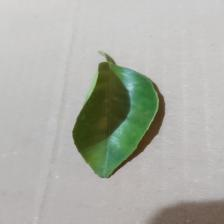greening: (71, 48, 167, 180)
